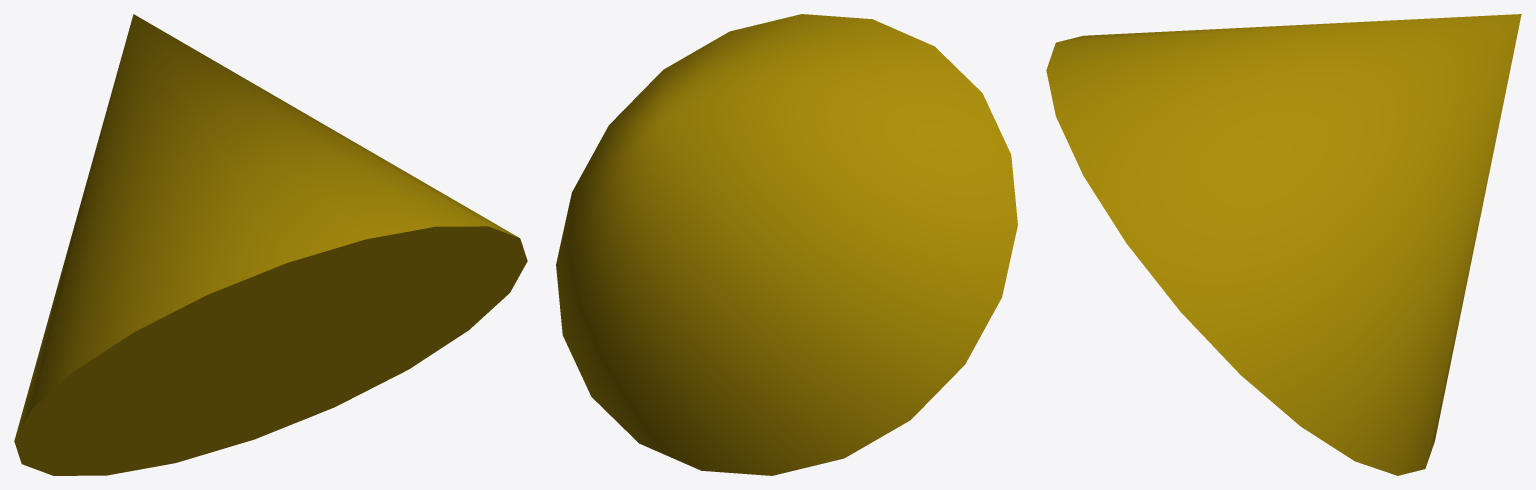
Rendered from BeeNest.fbx.
The picture shows the model from 3 angles, left to right: view 1: azimuth 30°, elevation 25°; view 2: azimuth 150°, elevation 25°; view 3: azimuth 270°, elevation 25°; orthographic projection. The views are drawn at different scales.
Parts seen in each view (by area): view 1: pCone1; view 2: pCone1; view 3: pCone1.
Part boxes in pixels (bbox=[...]): pCone1: bbox=[14, 14, 527, 475]; pCone1: bbox=[556, 14, 1017, 475]; pCone1: bbox=[1046, 14, 1521, 475].
Size of the model in its own units: 1.1 by 0.9191 by 0.9267.
